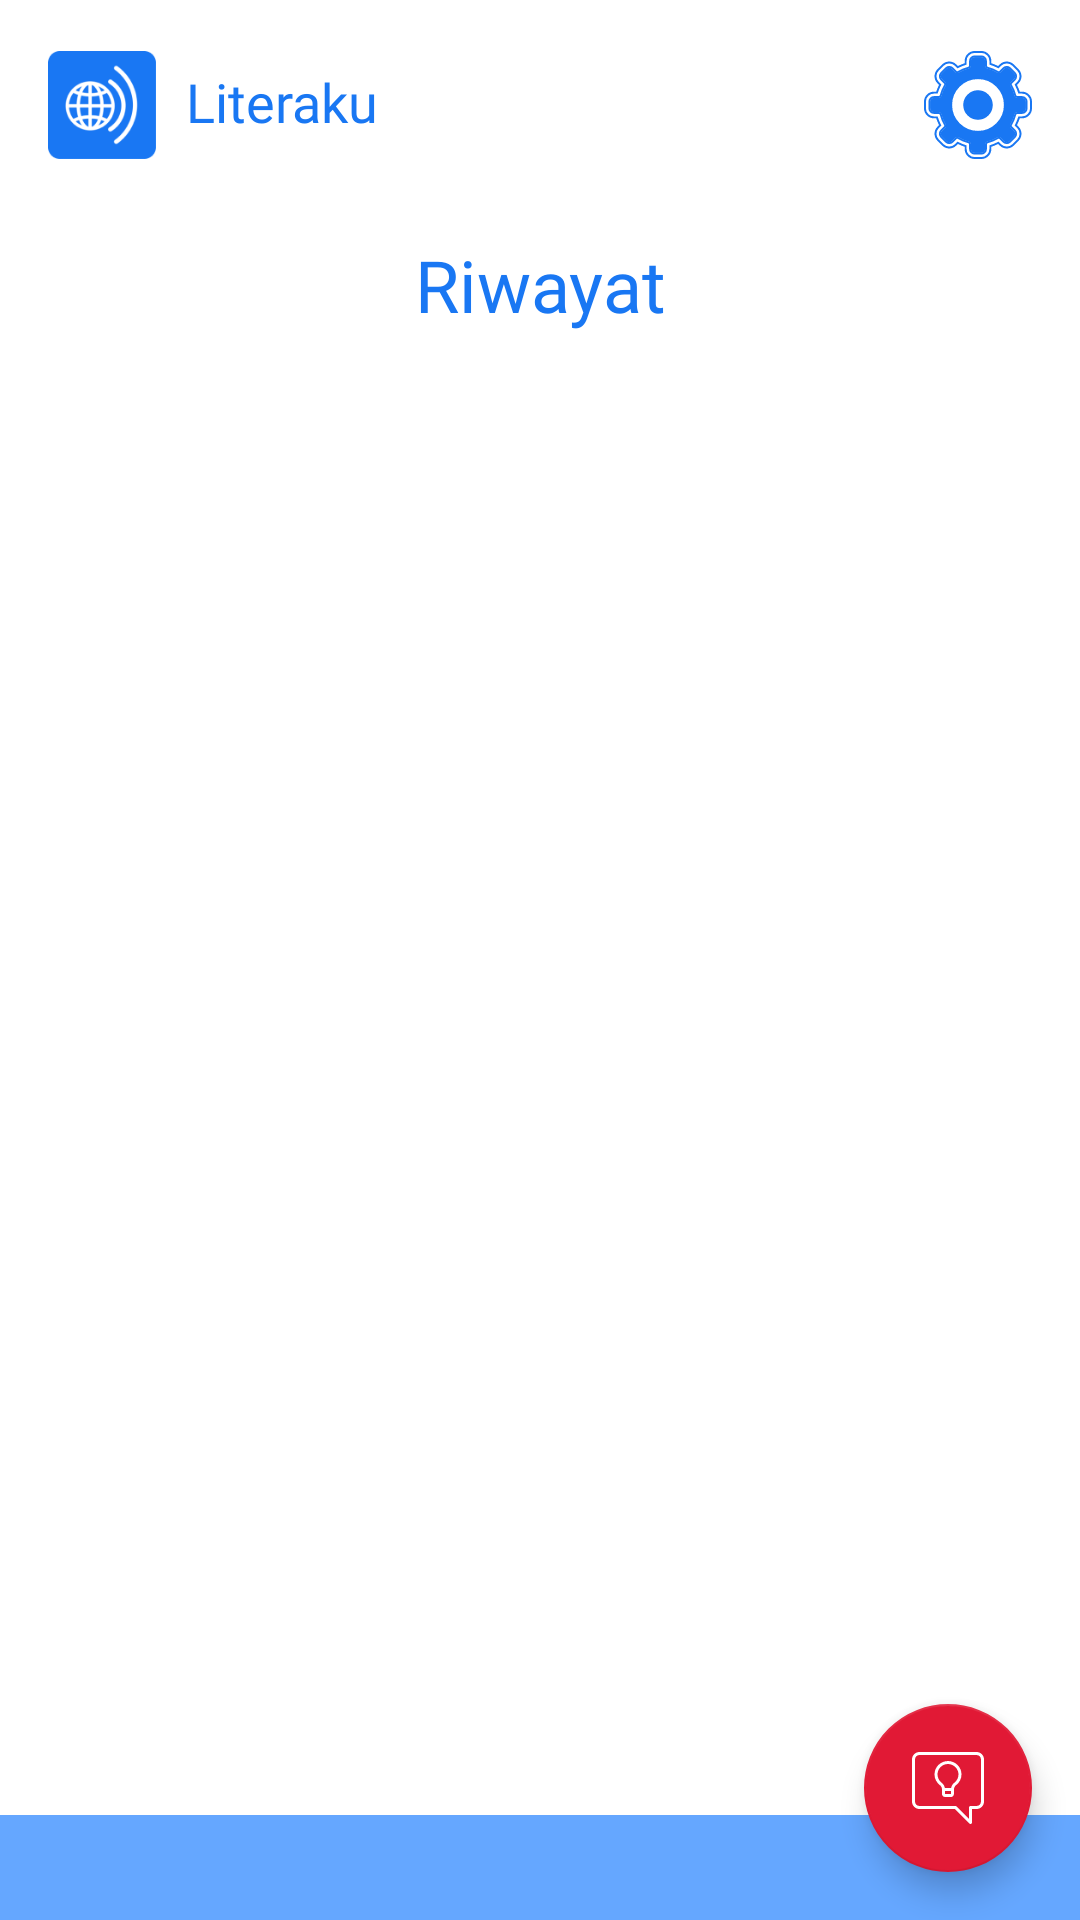

Icons on this 1080x1920 Android screen, each with the point to tap as point (x, y):
ltk bulb: point (948, 1788)
ltk settings: point (978, 105)
